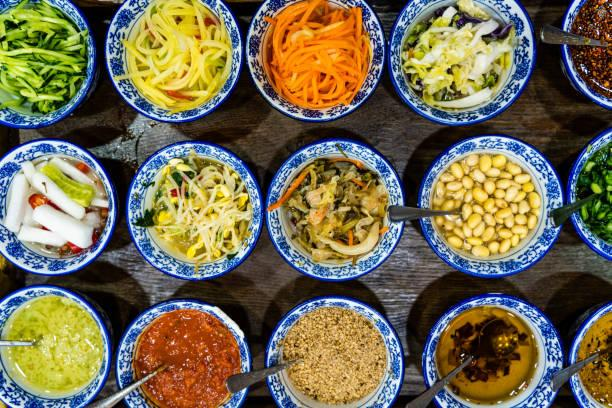Braised Crucian Carp: (418, 135, 564, 276), (264, 138, 405, 280), (387, 2, 535, 128), (126, 141, 262, 278), (244, 0, 384, 123), (106, 0, 242, 124), (422, 292, 566, 405), (1, 138, 118, 274), (264, 296, 403, 406), (116, 298, 250, 406), (0, 285, 111, 406), (1, 0, 99, 129)
